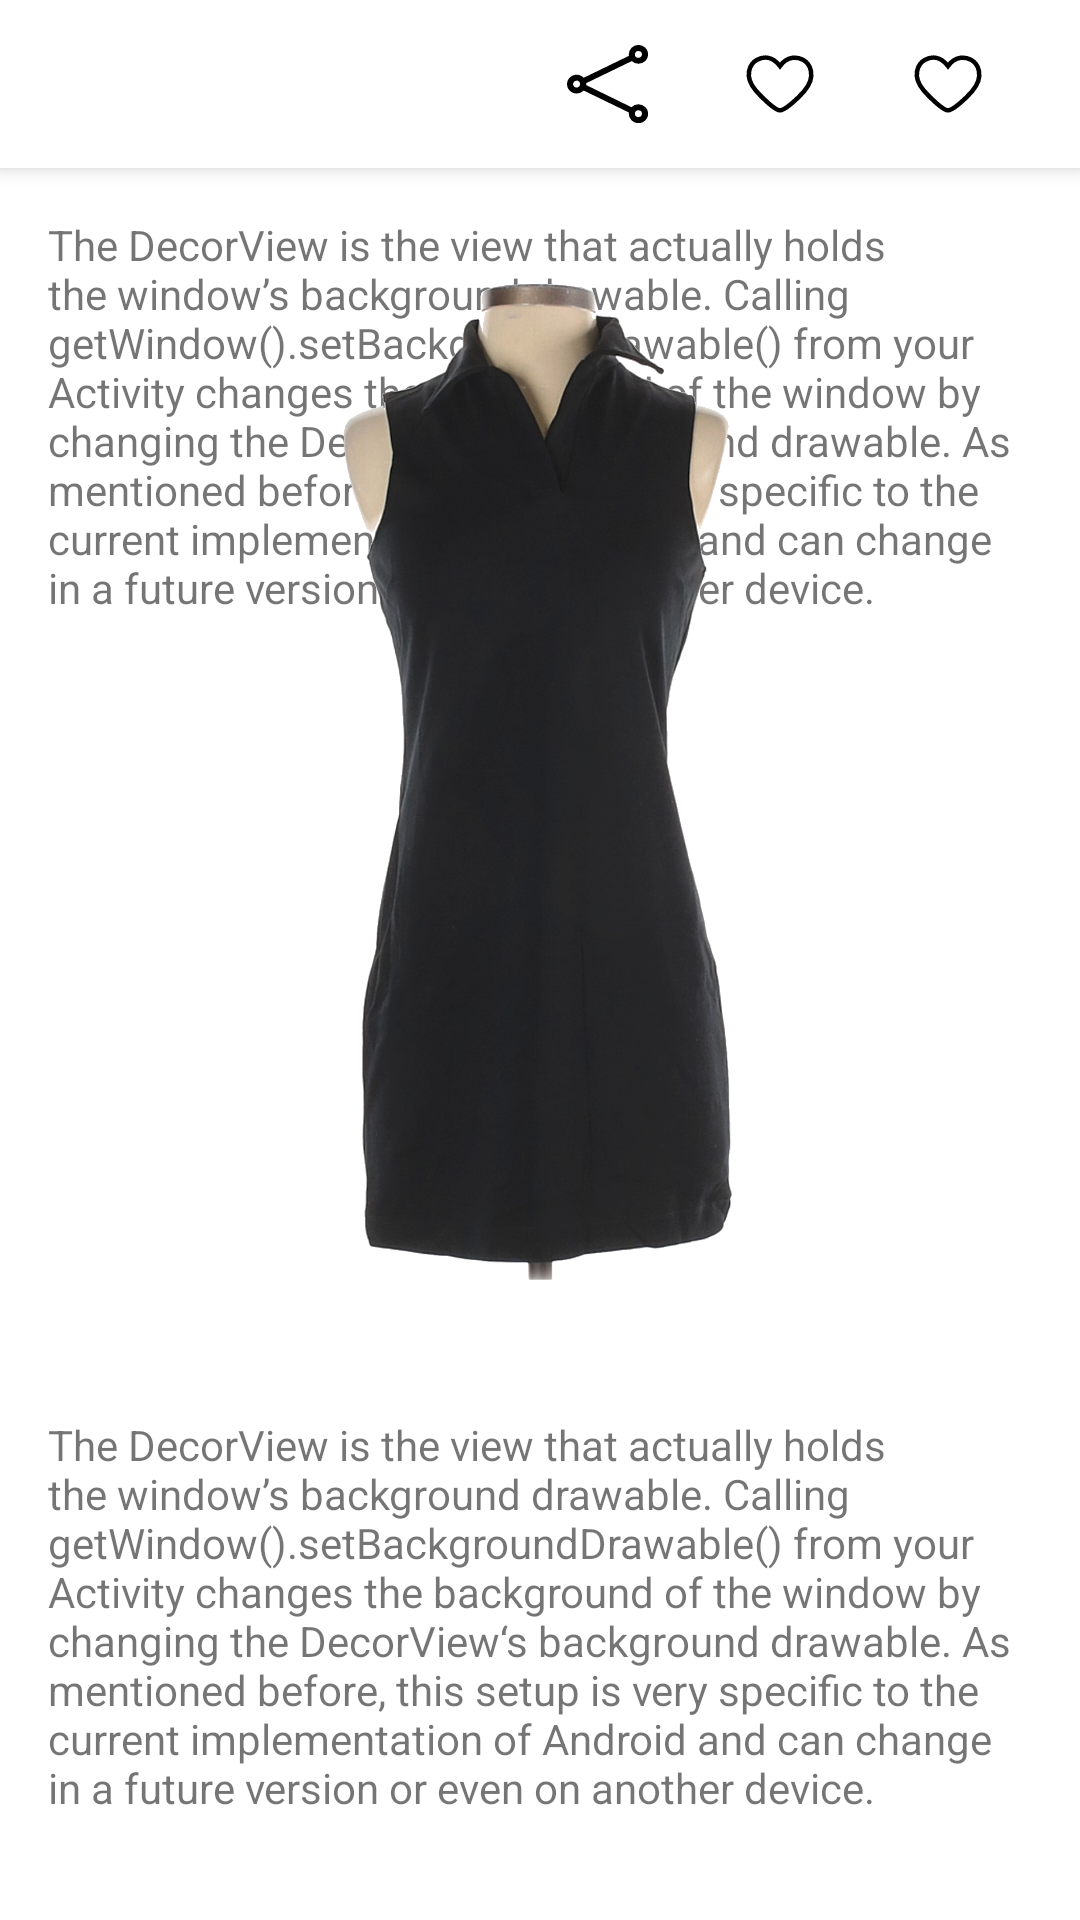

Where icons sit on this 1080×1920 app screen, as [x1=x1, y1=y1, x2=x2, y2=y2]:
heart: [x1=746, y1=55, x2=814, y2=113], [x1=914, y1=55, x2=982, y2=113]
share: [x1=567, y1=45, x2=648, y2=123]
